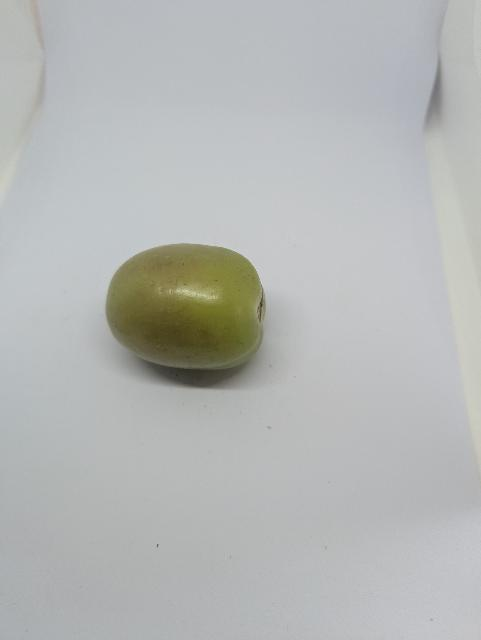green: (94, 214, 269, 409)
